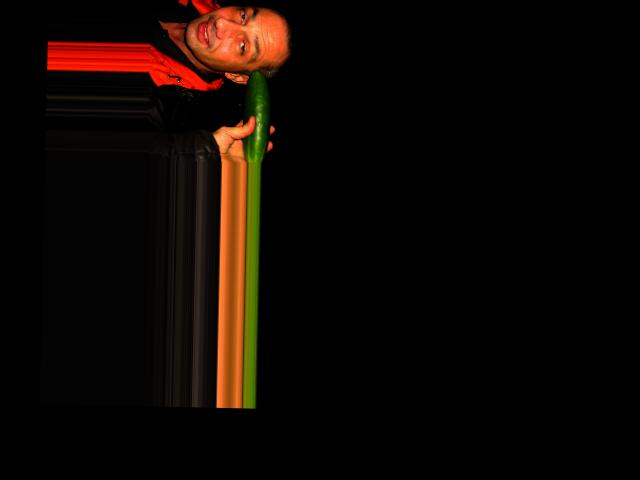cucumber: (242, 68, 271, 163)
